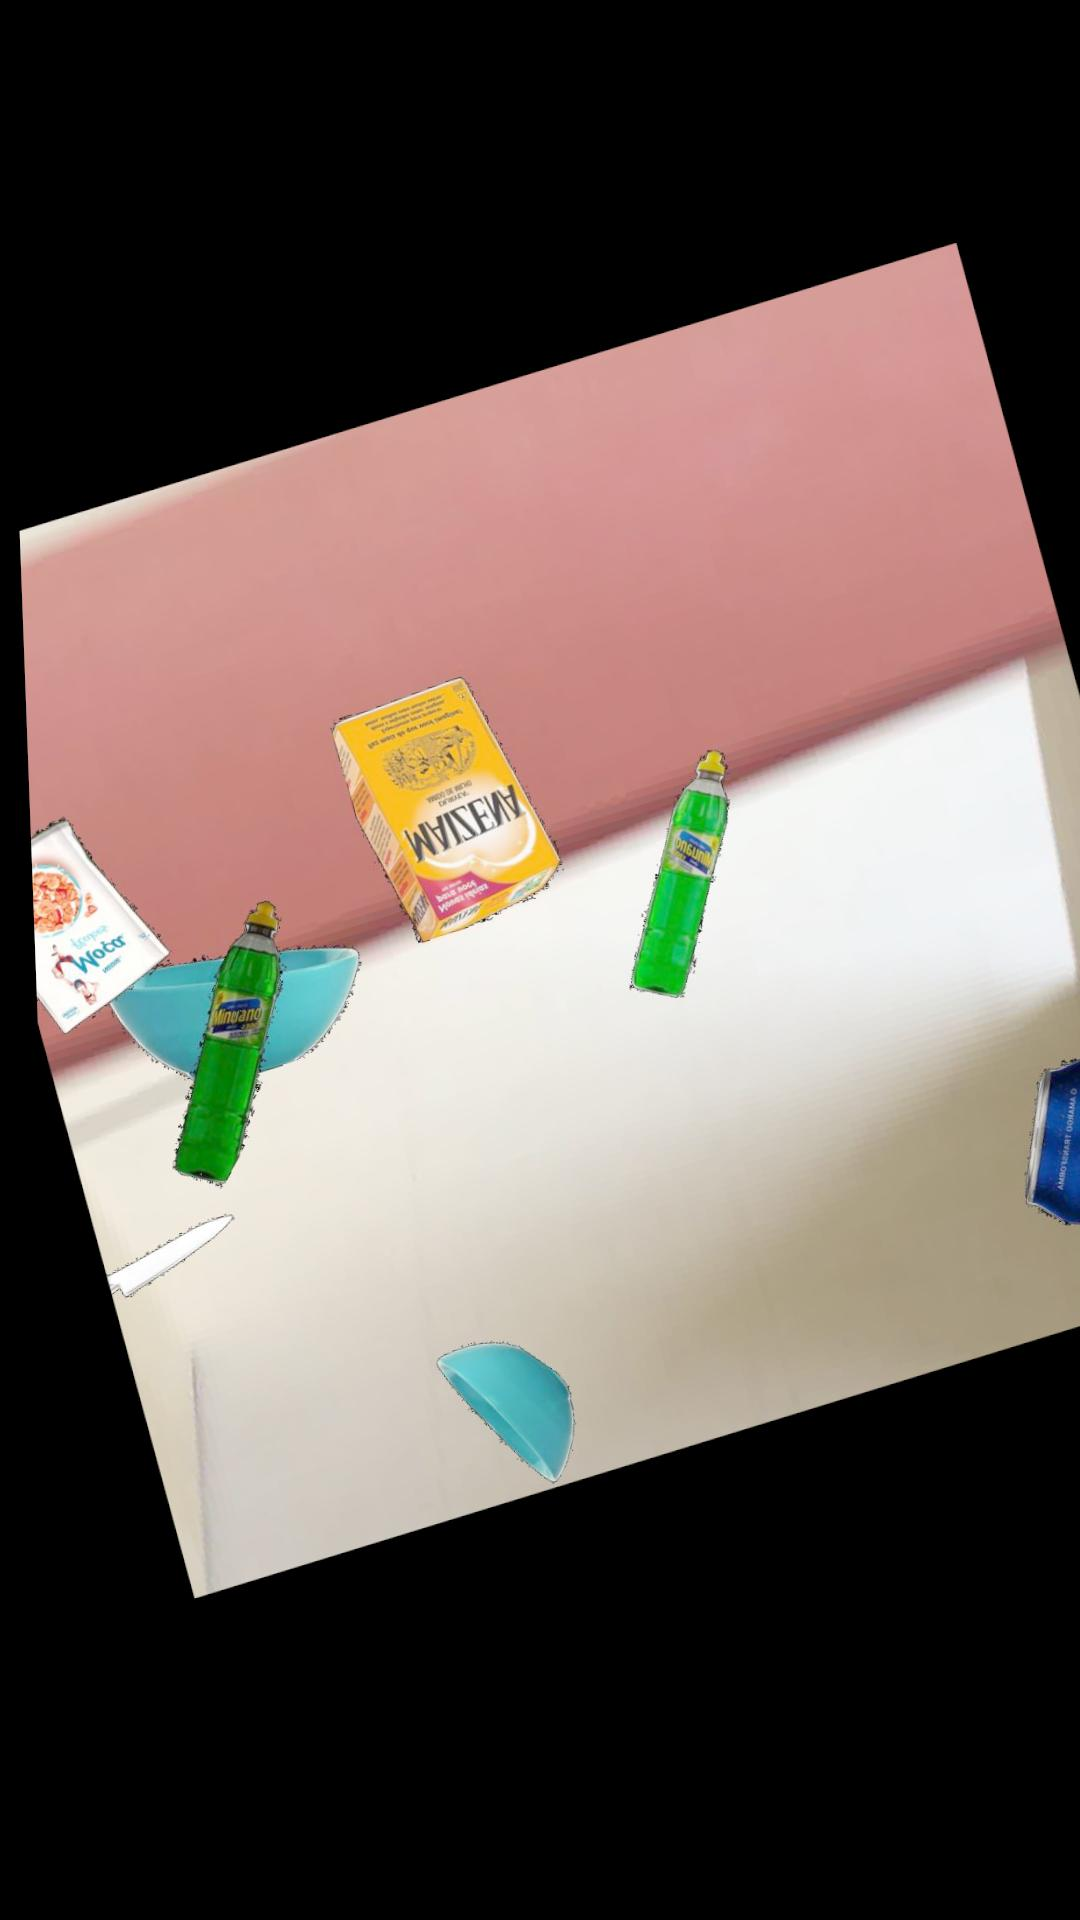bowl: (99, 952, 352, 1085), (425, 1350, 560, 1493)
cleaner: (161, 906, 273, 1192), (620, 762, 721, 1009)
corn flakes: (24, 819, 160, 1036)
knife: (98, 1218, 222, 1300)
tonic: (1013, 1075, 1080, 1246)
